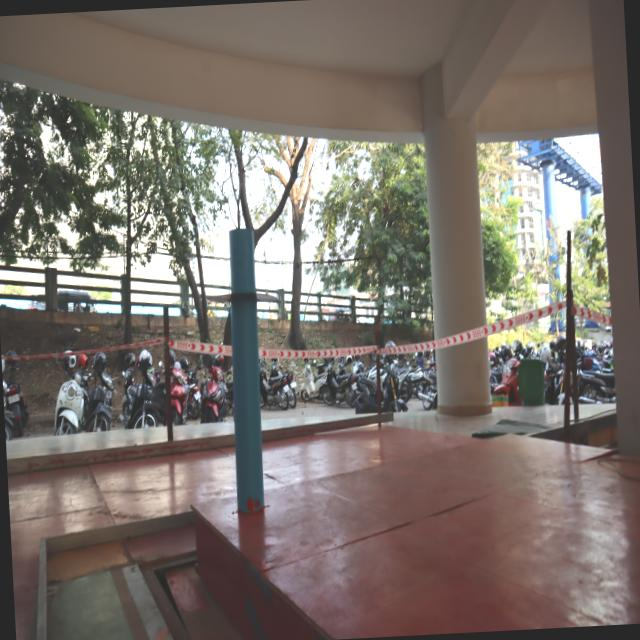pole: (210, 222, 279, 366)
